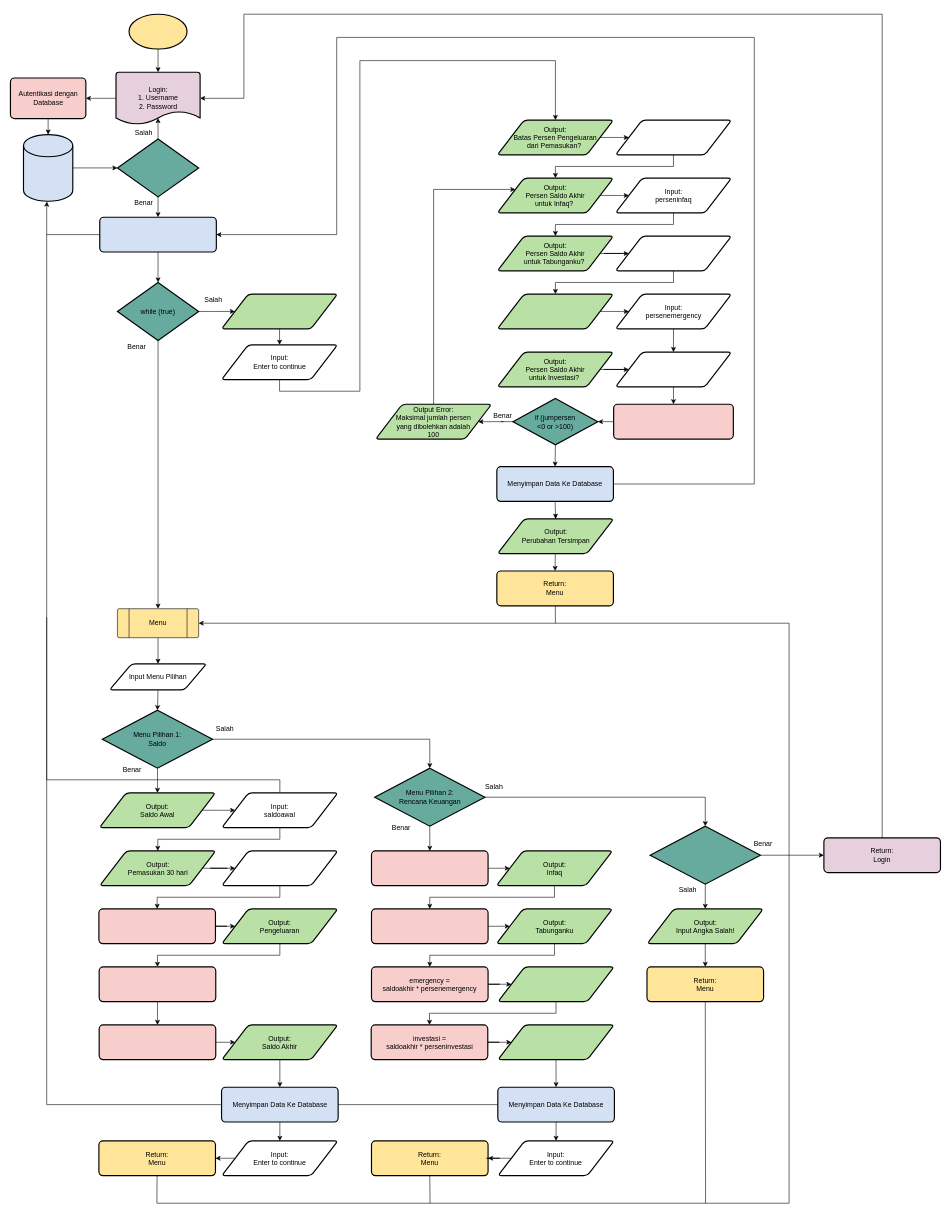
Some shapes in this 951 by 1218 pixel diagram are drawn without their labels. Here are the shapes that lost their labels. From the top down, the box of each, then its label:
(128, 13, 187, 49): Mulai
(615, 119, 732, 155): Input: persenpengeluaran
(23, 134, 73, 202): Database
(117, 138, 199, 197): Verifikasi User
(99, 216, 217, 252): Mengambil Data Pengaturan yang Tersimpan di Database
(615, 235, 732, 271): Input: persentabungan
(221, 293, 338, 329): Output: Pengaturan persentase keuangan belum di set. Set sekarang?
(497, 293, 614, 329): Output: Persen Saldo Akhir untuk Dana Darurat?
(615, 351, 732, 387): Input: perseninvestasi
(613, 403, 734, 439): jumpersen = perseninfaq + persentabungan + persenemergency + perseninvestasi
(221, 850, 338, 886): Input: pemasukan
(371, 850, 488, 886): infaq = saldoakhir * perseninfaq
(649, 825, 761, 884): Menu Pilihan 0: Keluar
(98, 908, 216, 944): pengeluaran = pemasukan * persenpengeluaran
(371, 908, 488, 944): tabungan = saldoakhir * persentabungan
(98, 966, 216, 1002): saldotambahan = pemasukan - pengeluaran
(497, 966, 614, 1002): Output: Dana Darurat
(98, 1024, 216, 1060): saldoakhir = saldoawal + saldotambahan
(497, 1024, 614, 1060): Output: Investasiku
